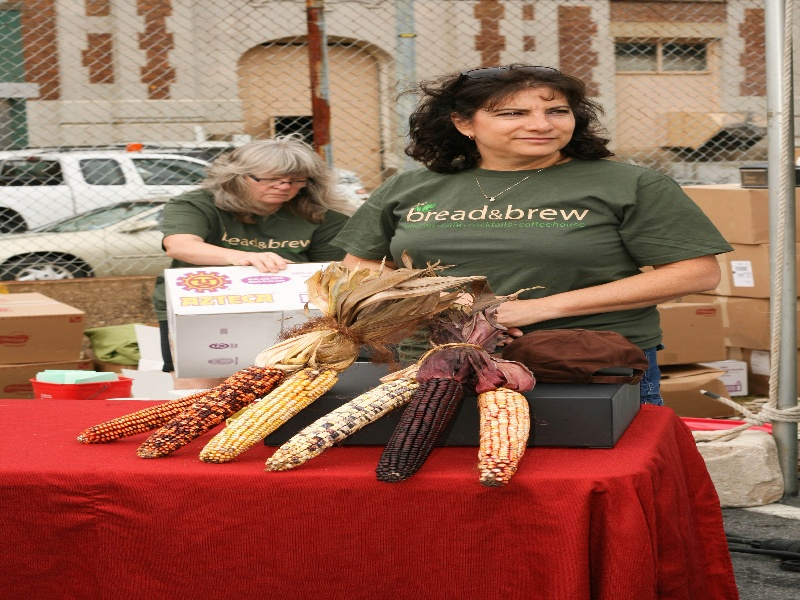face: (461, 76, 585, 163), (237, 151, 316, 218)
